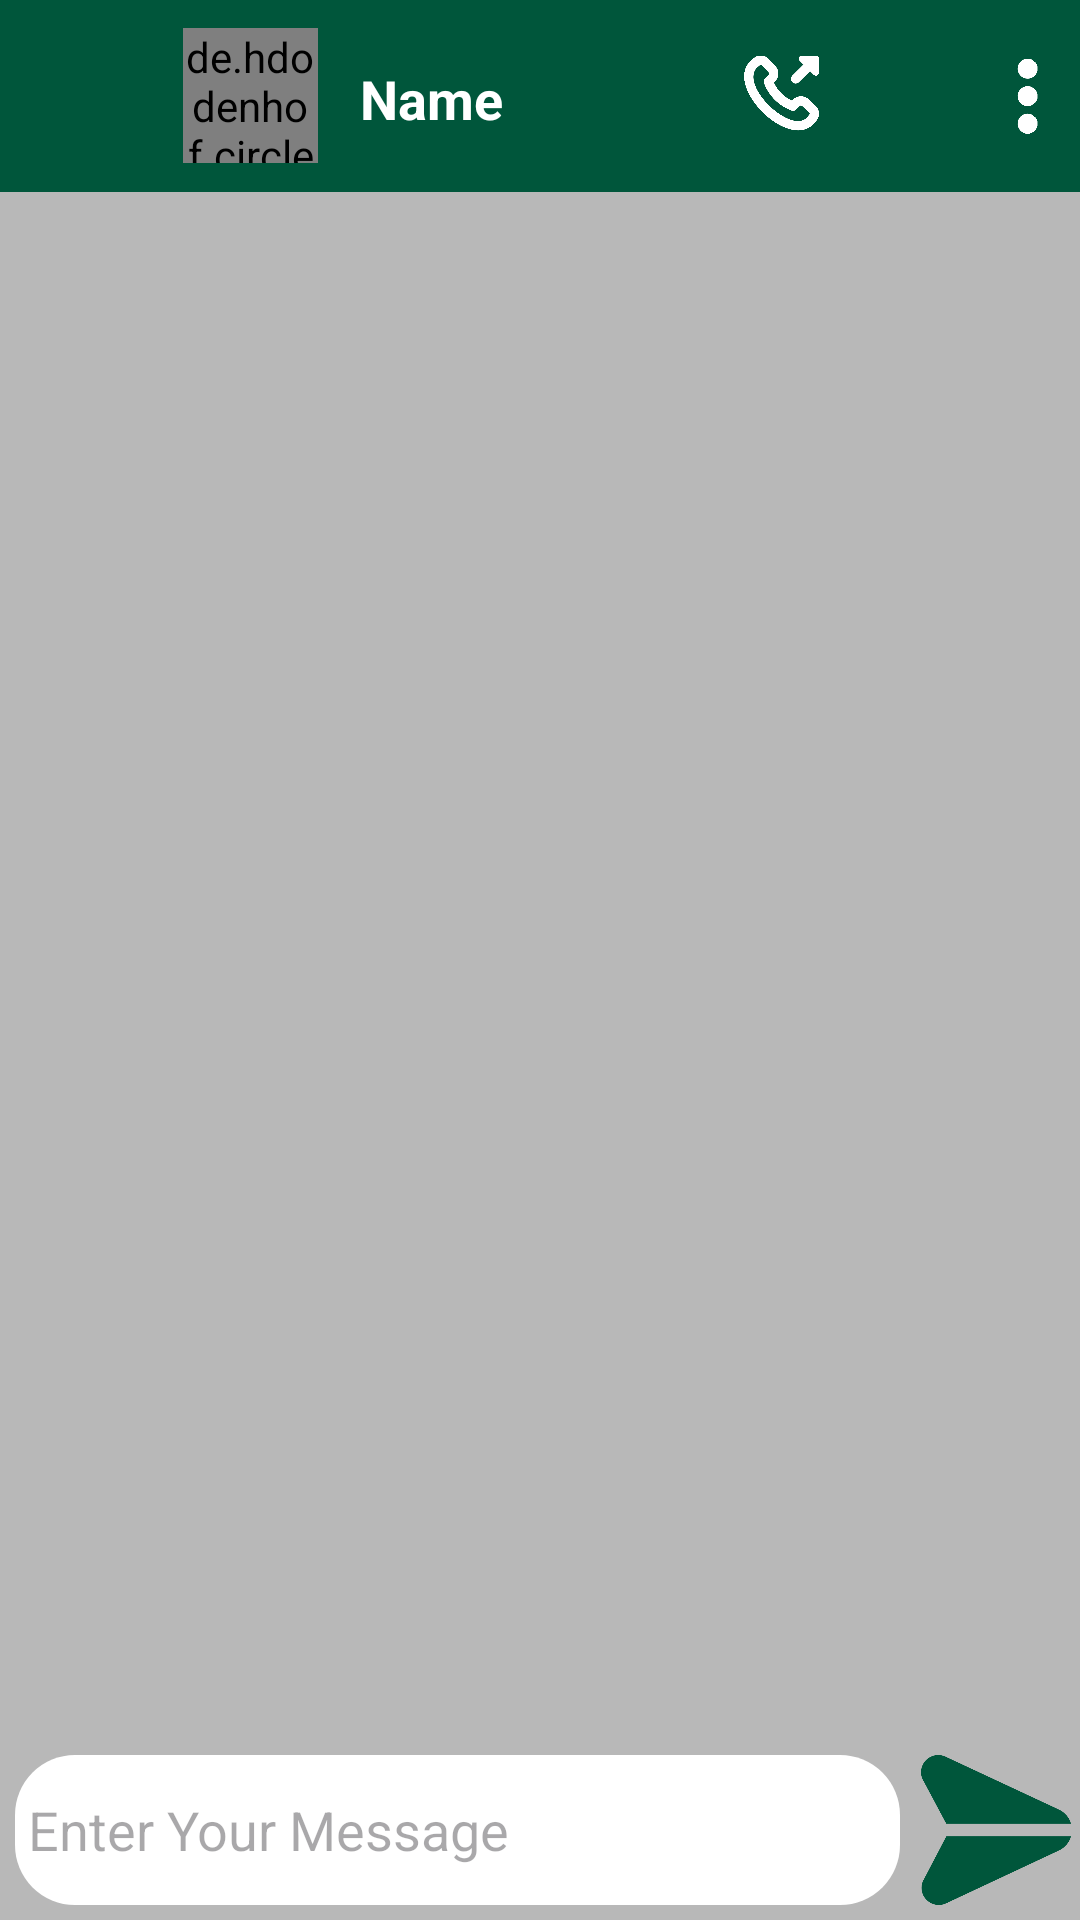

Icon click points for this 1080 × 1920 phone screenshot, format [x,y]:
call: [781,93]
dots: [1027,96]
send: [996,1830]
